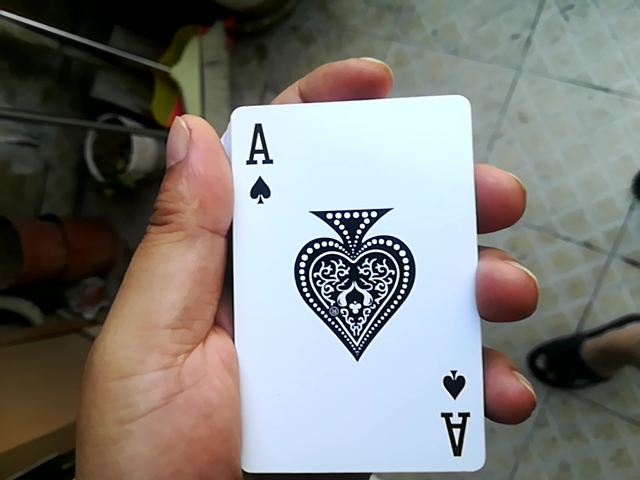ht a: (209, 100, 462, 468)
